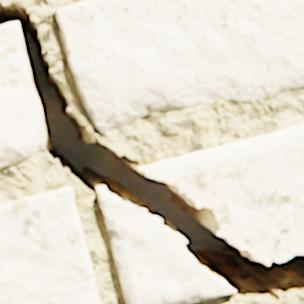brick: (55, 0, 303, 134), (0, 186, 100, 303), (0, 22, 37, 169)
broken_brick: (137, 123, 303, 264), (97, 187, 234, 303)
crack: (0, 1, 303, 302)
